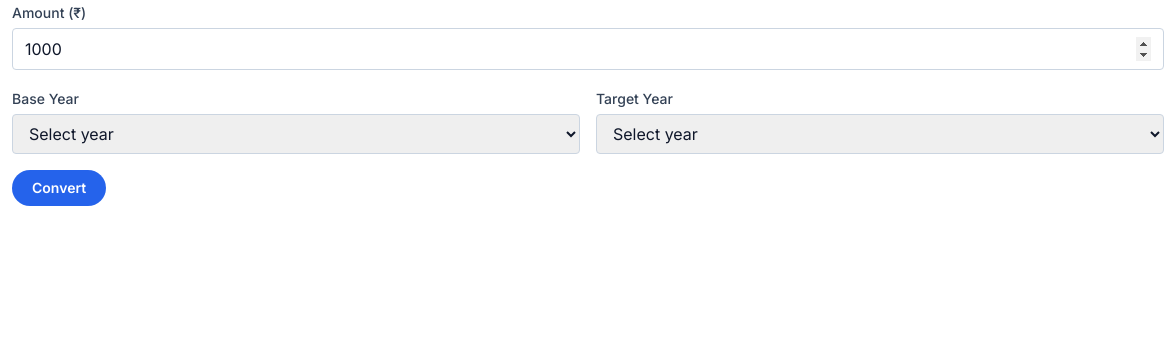
Test: InflationConverter component › converts amount using fetched CPI data
The width and height of the screenshot is (1176, 347).
Replace the text in the number field labelled "Amount (₹)" with "200" at (588, 49), box x1=12 y1=28 x2=1164 y2=70
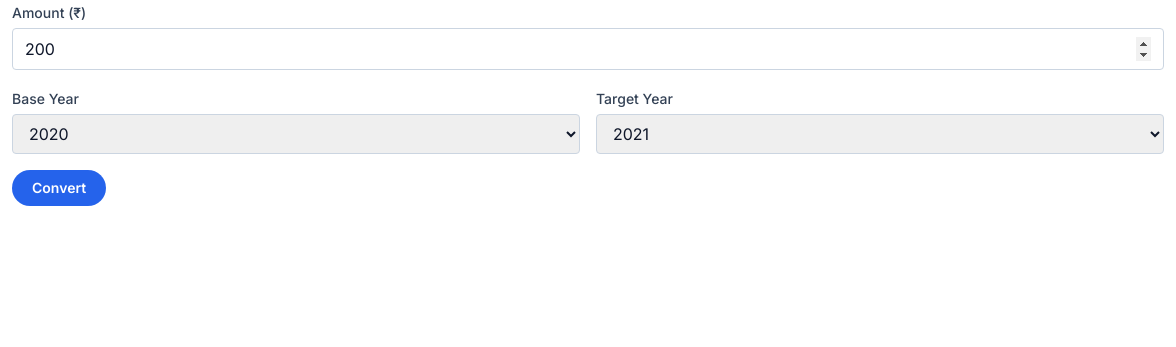
Select "2020" in the dropdown labelled "Base Year" at (296, 134), box x1=12 y1=114 x2=580 y2=154
Select "2021" in the dropdown labelled "Target Year" at (880, 134), box x1=596 y1=114 x2=1164 y2=154
Click the button "Convert" at (59, 188), box x1=12 y1=170 x2=106 y2=206
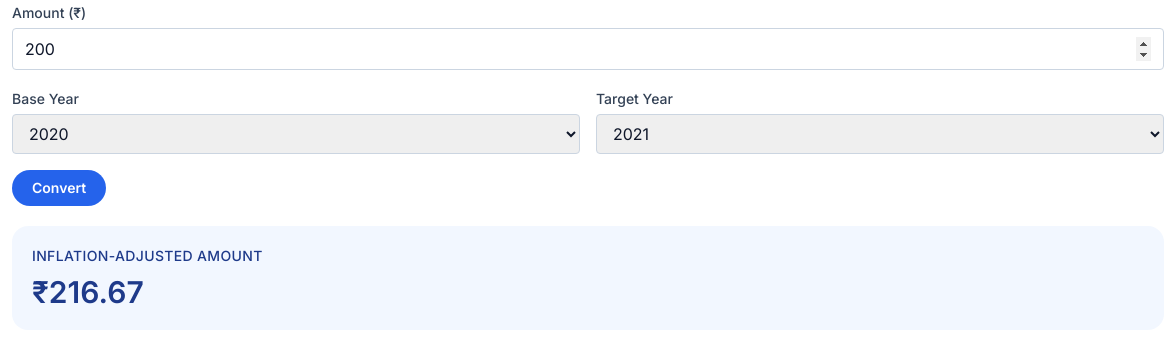
Expected: the text "₹216.67" is shown, x1=32 y1=274 x2=144 y2=310
